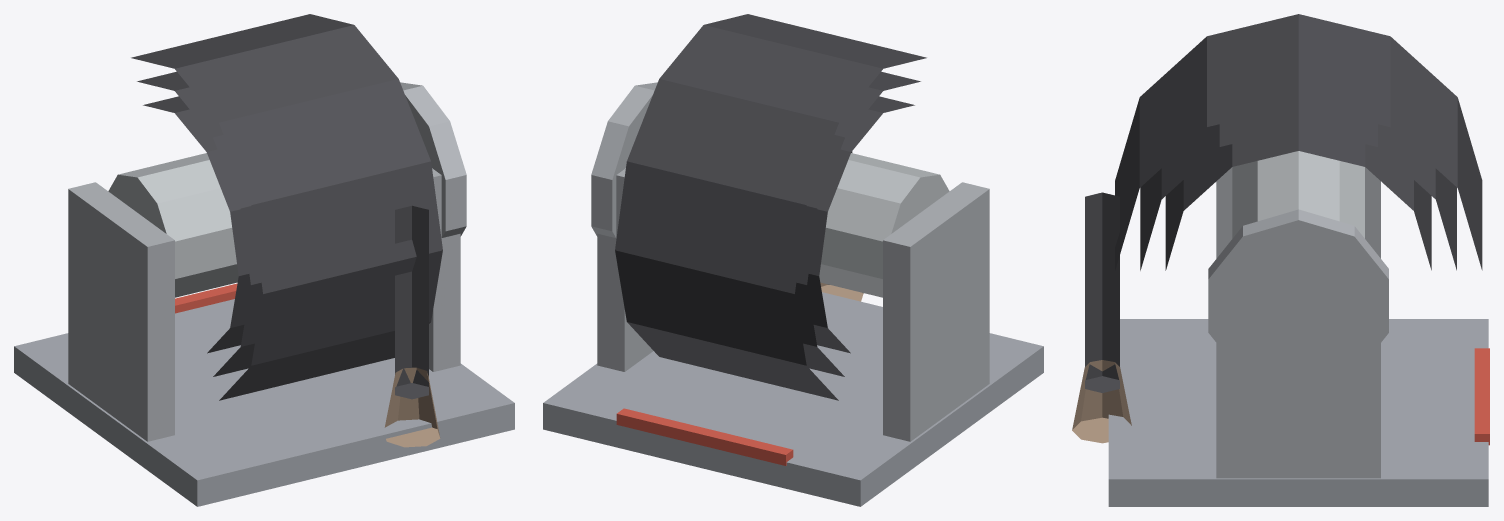
File: prop_cable_reel.glb
The picture shows the model from 3 angles, left to right: view 1: azimuth 30°, elevation 25°; view 2: azimuth 150°, elevation 25°; view 3: azimuth 270°, elevation 25°; orthographic projection. The views are drawn at different scales.
Visible parts, largest first — view 1: prop_cable_reel; view 2: prop_cable_reel; view 3: prop_cable_reel.
Boxes of the visible parts, box(x1,y1,x2,y2) form: prop_cable_reel: box(14, 14, 514, 506); prop_cable_reel: box(543, 14, 1043, 506); prop_cable_reel: box(1072, 14, 1489, 506).
Size of the model in its own units: 0.3 by 0.32 by 0.33.
